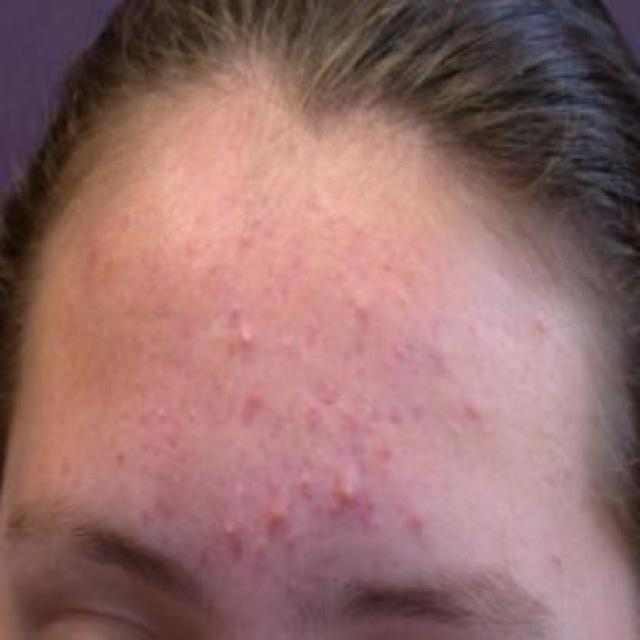dark spot: (357, 497, 381, 536), (229, 530, 251, 562), (385, 404, 406, 426)
papules: (397, 500, 434, 542), (454, 395, 491, 426), (540, 540, 572, 573)
pustules: (265, 495, 292, 532), (331, 477, 360, 507)
whiteheads: (237, 377, 275, 426), (226, 466, 249, 509), (145, 393, 172, 422), (280, 569, 303, 599), (229, 326, 257, 349), (223, 298, 248, 322), (163, 465, 186, 489), (294, 471, 318, 493), (394, 287, 412, 304)
